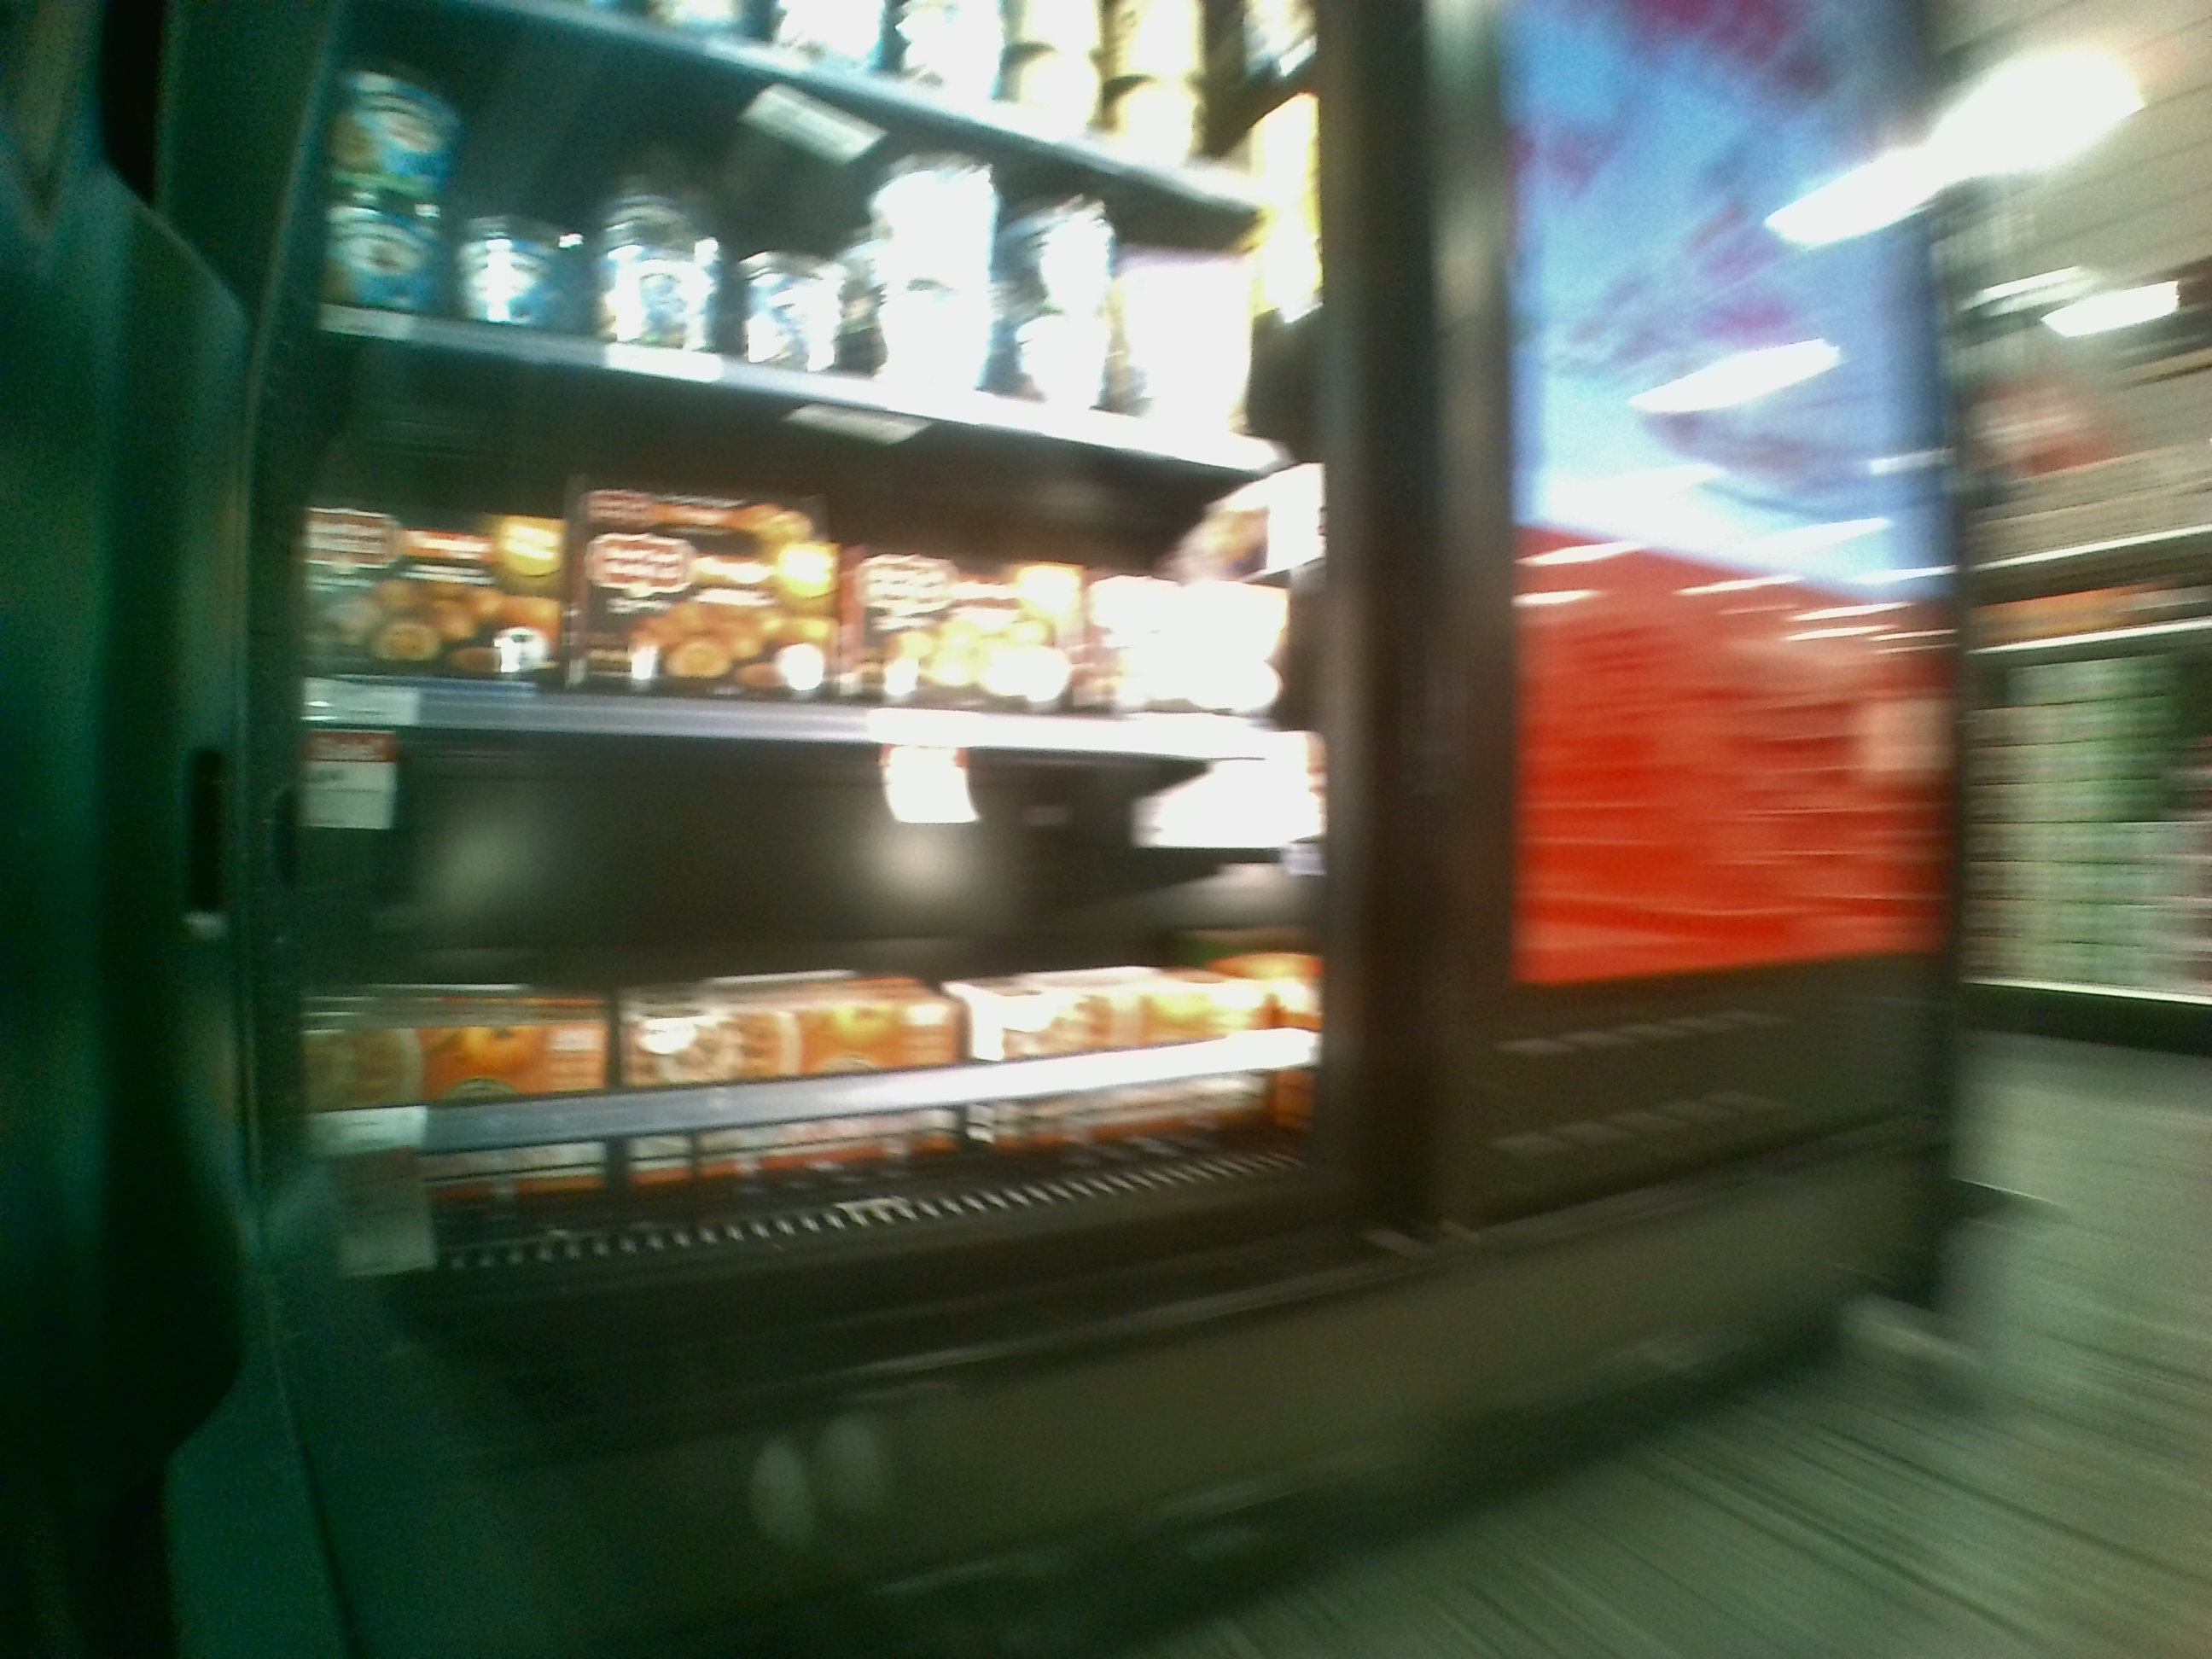shelf: (291, 718, 1325, 1229), (307, 338, 1313, 755)
